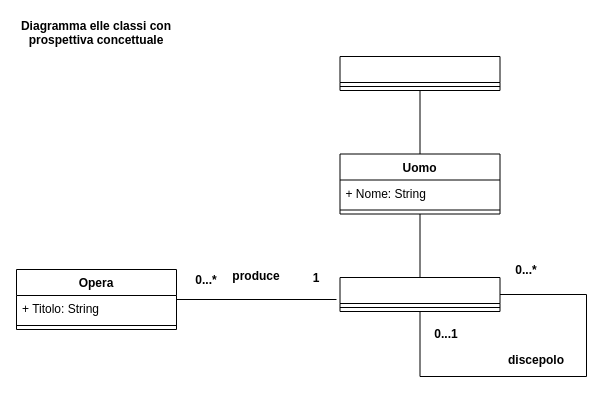
The diagram is 603 pixels wide and 393 high, and some of its shapes have lost their labels. Here are the shapes that lost their labels. From the top down, the centre of each, then its label:
At point (419, 73): "Mortale".
At point (419, 294): "Filosofo".
